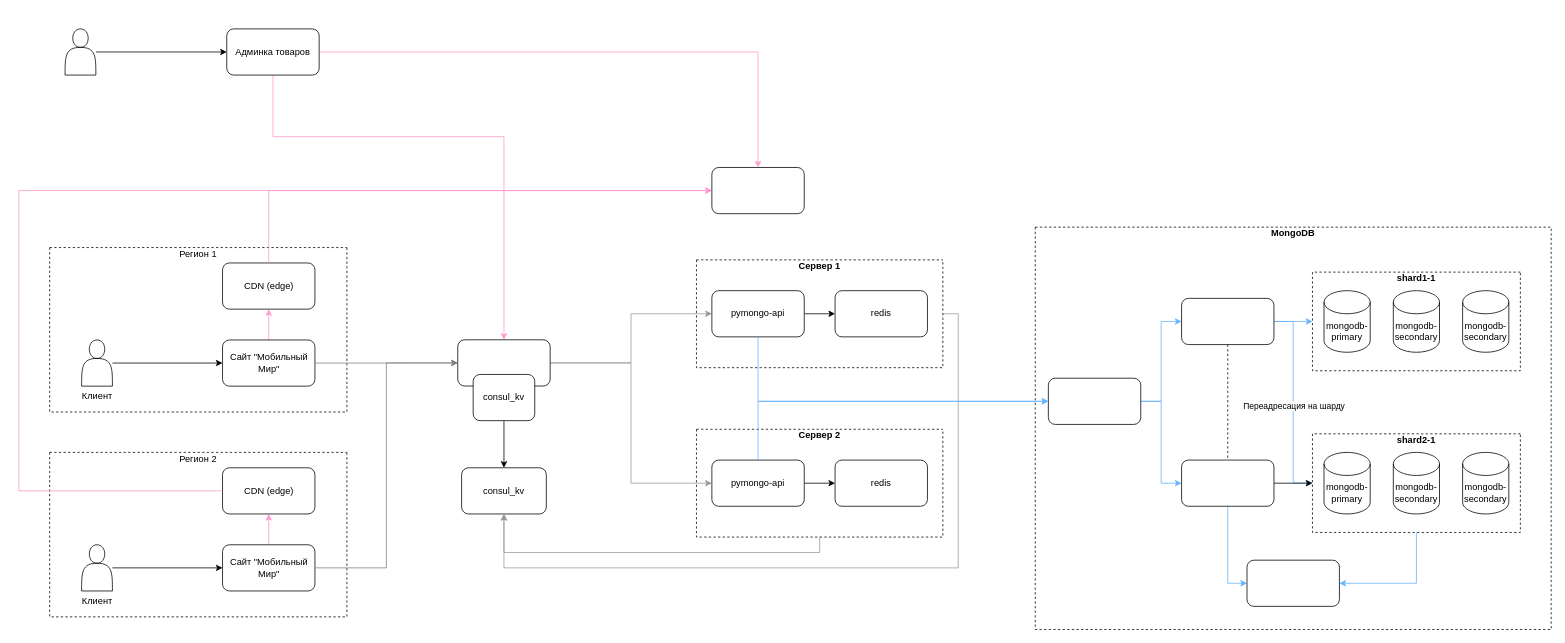
Image size: 1565x643. Some labels were removed from this diagram. Here are the shapes that lost their labels. From the top down, the centre of each, then its label:
the point at 80,51: Администраторы
the point at 757,190: CDN (origin)
the point at 1227,321: mongos-router-1
the point at 503,362: APSIX Gateway
the point at 1094,400: driver
the point at 1227,482: mongos-router-2
the point at 1292,582: configSrv (replica set: 2)
